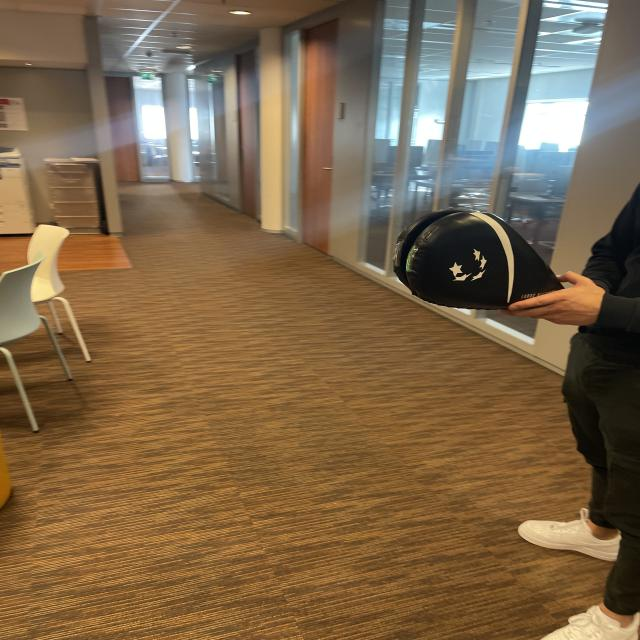paddle: (394, 209, 564, 309)
trigger: (405, 245, 416, 273)
